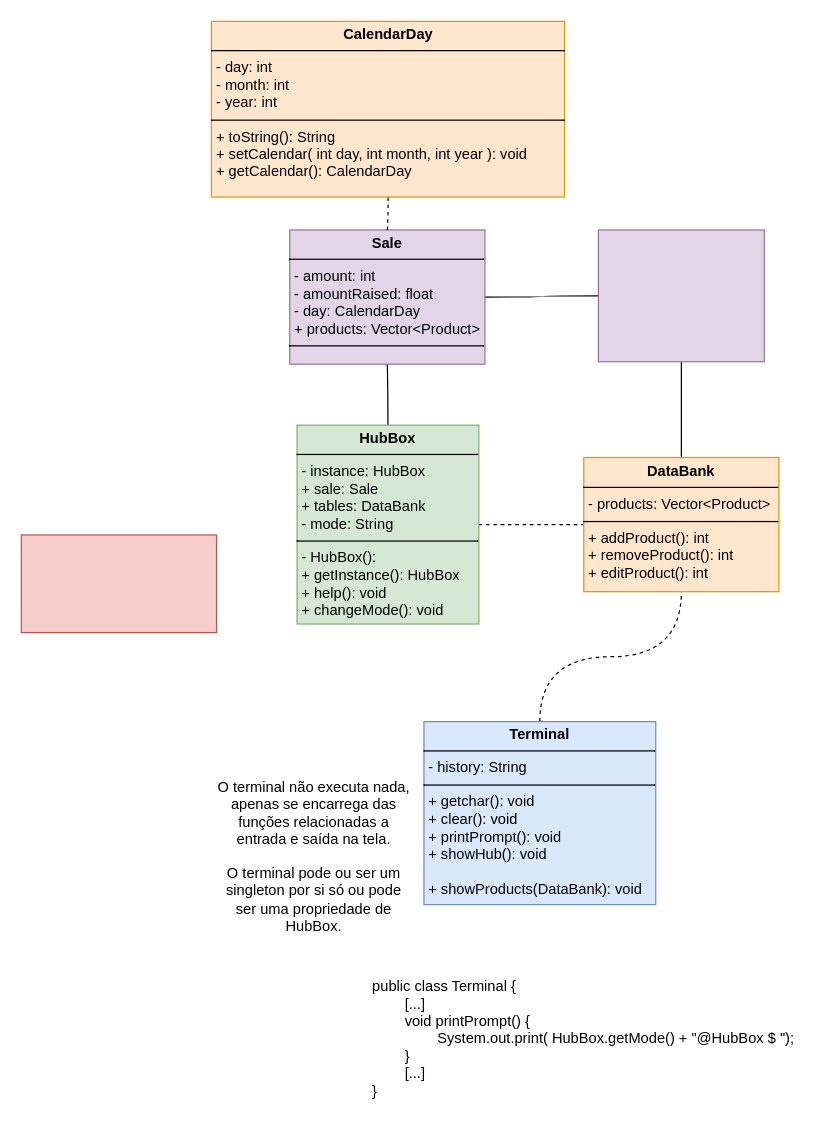
The diagram is 824 pixels wide and 1127 high, and some of its shapes have lost their labels. Each missing label, with the centre of its shape:
"ErrorHandling + catchError( int type ): void" goes at (118,583).
"Product - id: int - name: String - price: float + clone(): Product" goes at (680,295).
